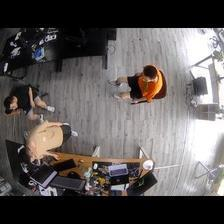normal: (1, 81, 61, 122), (109, 62, 164, 106)
